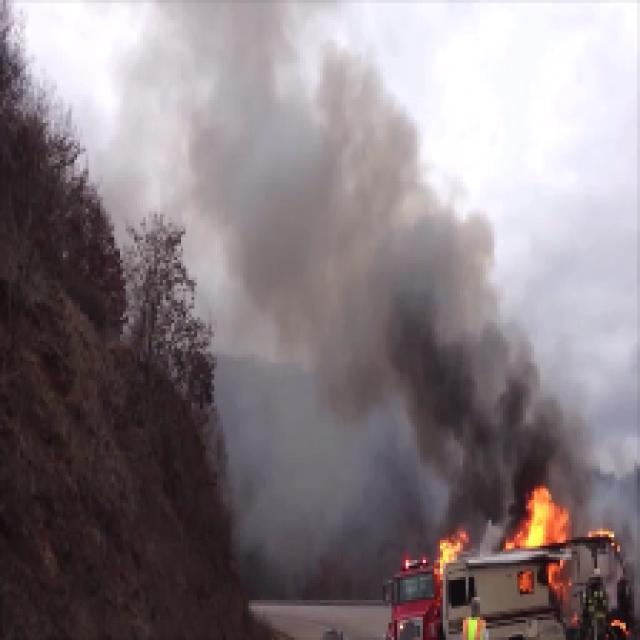fire: (514, 489, 576, 549), (437, 530, 473, 566)
smoke: (116, 0, 497, 296), (337, 306, 581, 472)
